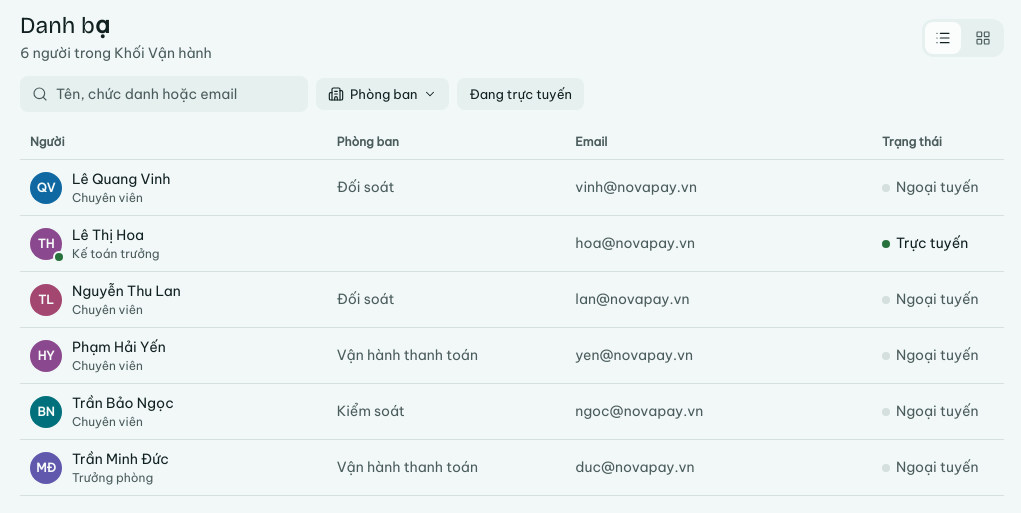
Test: ContactsScreen: suggestions in the empty search box › asks nothing about direct messages until the box is focused
The image size is (1021, 513).
Expected: the button "Trần Minh Đức" is shown, [72,449,169,470]
Click the dropdown labelled "Tên, chức danh hoặc email".
click(176, 94)  # box [56,76,296,112]
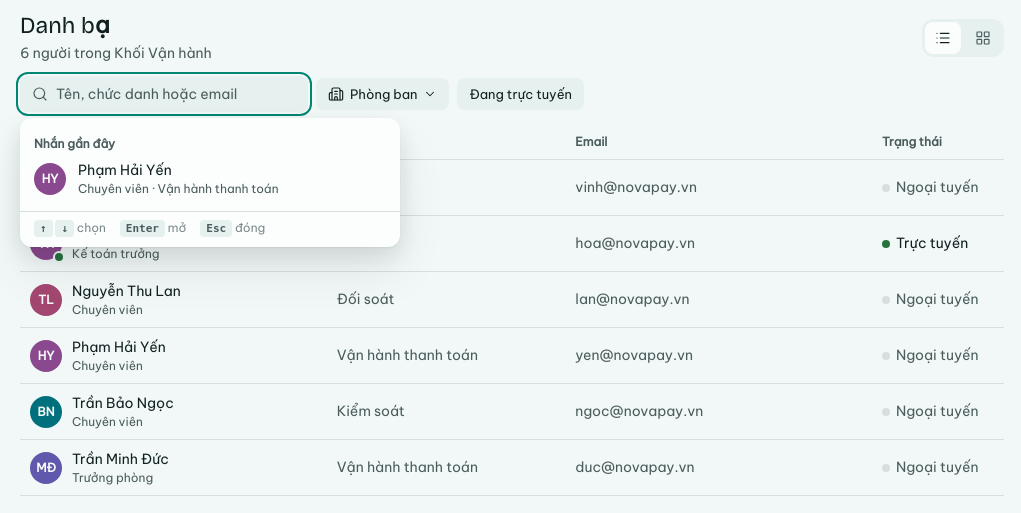
Now the option "HY Phạm Hải Yến Chuyên viên · Vận hành thanh toán" is shown, box [34,161,279,196]
